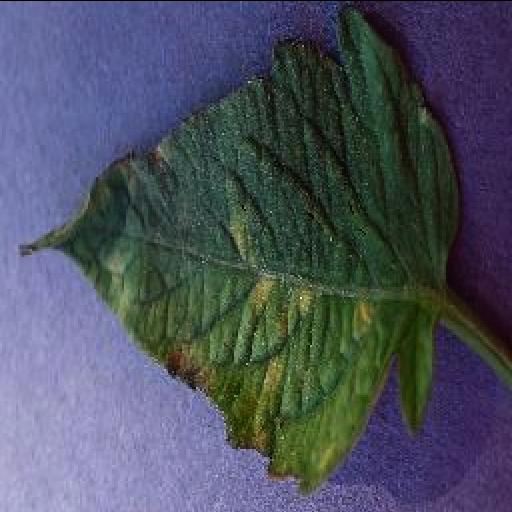disease_tomato: (20, 4, 464, 493)
